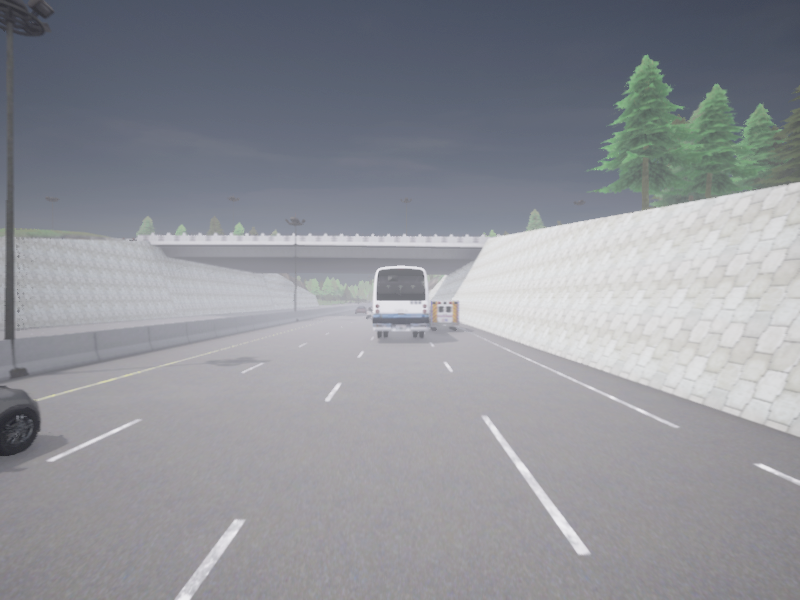vehicle: (372, 266, 429, 337), (0, 385, 40, 456), (429, 300, 459, 329), (356, 306, 367, 313), (367, 306, 372, 318)
